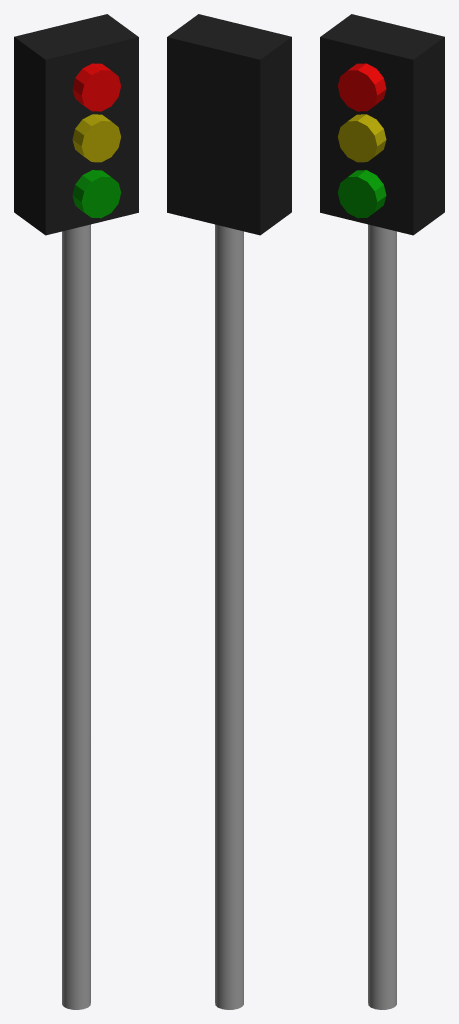
File: Decoration_Stoplight.fbx
3 renders of one model, left to right at view 1: azimuth 30°, elevation 25°; view 2: azimuth 150°, elevation 25°; view 3: azimuth 330°, elevation 25°, orthographic.
Visible parts, largest first — view 1: pCylinder1, pCube1, pCylinder2, pCylinder3, pCylinder4; view 2: pCube1, pCylinder1; view 3: pCylinder1, pCube1, pCylinder2, pCylinder3, pCylinder4.
Boxes of the visible parts, <box> form: pCylinder1: <box>62,224,90,1009</box>; pCube1: <box>14,14,138,235</box>; pCylinder2: <box>72,63,120,111</box>; pCylinder3: <box>72,114,120,162</box>; pCylinder4: <box>72,170,121,218</box>; pCube1: <box>167,14,291,235</box>; pCylinder1: <box>215,224,243,1009</box>; pCylinder1: <box>368,224,396,1009</box>; pCube1: <box>320,14,444,235</box>; pCylinder2: <box>338,63,386,111</box>; pCylinder3: <box>338,114,386,162</box>; pCylinder4: <box>337,170,386,218</box>.
Bounding box in the file's own units: 0.4185 × 4.14 × 0.3162.
